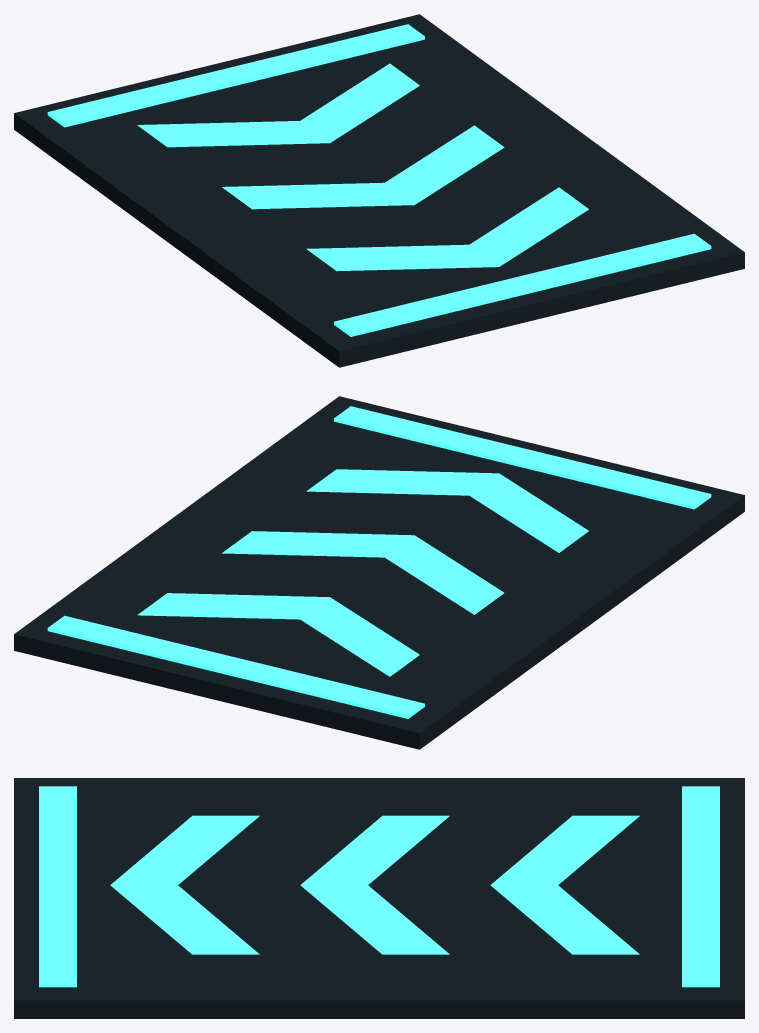
Rendered from boost_pad.glb.
3 views of the same model, one above another, from view 1: azimuth 30°, elevation 25°; view 2: azimuth 150°, elevation 25°; view 3: azimuth 270°, elevation 25° (orthographic). The views are drawn at different scales.
Visible parts, largest first — view 1: Boost road tile, Boost arrow 1, Boost arrow 0, Boost arrow 2, Cyan entry bar, Cyan exit bar; view 2: Boost road tile, Boost arrow 0, Boost arrow 1, Boost arrow 2, Cyan exit bar, Cyan entry bar; view 3: Boost road tile, Boost arrow 0, Boost arrow 1, Boost arrow 2, Cyan entry bar, Cyan exit bar.
Part boxes in pixels (bbox=[...]): Boost road tile: bbox=[14, 14, 744, 367]; Boost arrow 1: bbox=[222, 125, 504, 209]; Boost arrow 0: bbox=[137, 63, 419, 147]; Boost arrow 2: bbox=[307, 187, 588, 271]; Cyan entry bar: bbox=[334, 233, 711, 336]; Cyan exit bar: bbox=[47, 24, 424, 127]; Boost road tile: bbox=[14, 396, 744, 749]; Boost arrow 0: bbox=[137, 593, 419, 676]; Boost arrow 1: bbox=[222, 531, 503, 614]; Boost arrow 2: bbox=[306, 469, 588, 552]; Cyan exit bar: bbox=[47, 615, 424, 718]; Cyan entry bar: bbox=[334, 406, 711, 509]; Boost road tile: bbox=[14, 778, 744, 1018]; Boost arrow 0: bbox=[490, 815, 639, 954]; Boost arrow 1: bbox=[300, 815, 449, 954]; Boost arrow 2: bbox=[110, 815, 259, 954]; Cyan entry bar: bbox=[39, 786, 76, 987]; Cyan exit bar: bbox=[682, 786, 719, 987].
Bounding box in the file's own units: 1.8 × 0.086 × 2.5.
